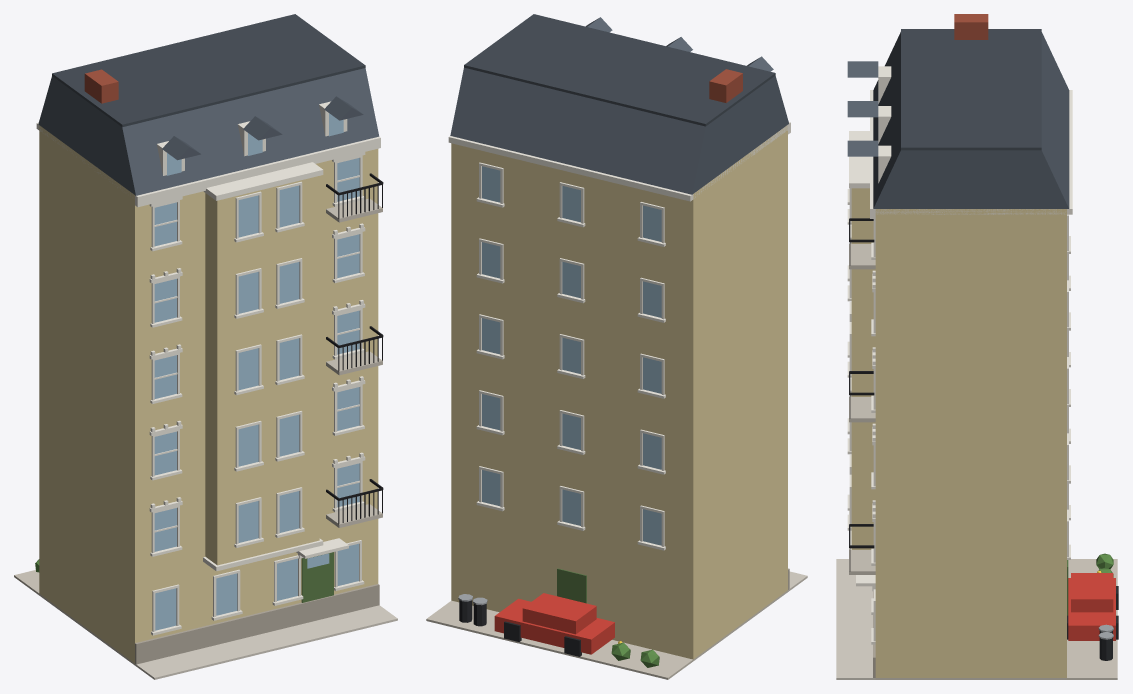
File: Blok_duz_6k_4_Hafif.fbx
The picture shows the model from 3 angles, left to right: view 1: azimuth 30°, elevation 25°; view 2: azimuth 150°, elevation 25°; view 3: azimuth 270°, elevation 25°; orthographic projection.
Visible parts, largest first — view 1: Blok_duz_6k_4_Hafif; view 2: Blok_duz_6k_4_Hafif; view 3: Blok_duz_6k_4_Hafif.
Boxes of the visible parts, x1,y1,x2,y2 form: Blok_duz_6k_4_Hafif: [14, 14, 397, 679]; Blok_duz_6k_4_Hafif: [426, 14, 807, 679]; Blok_duz_6k_4_Hafif: [836, 14, 1118, 679].
Size of the model in its own units: 10 by 21.58 by 10.04.
